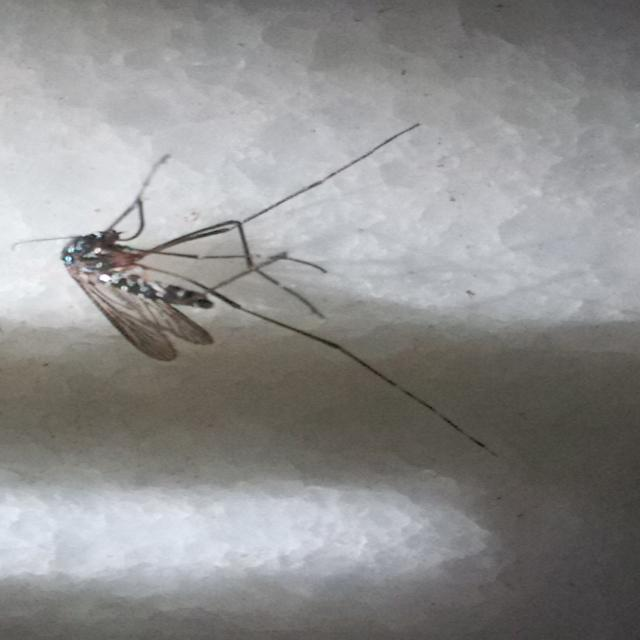albopictus: (0, 123, 496, 449)
